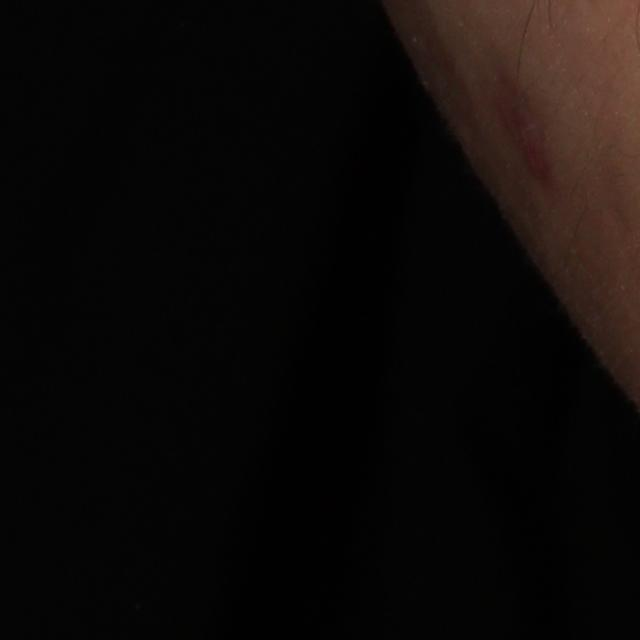papule: (508, 112, 553, 187)
